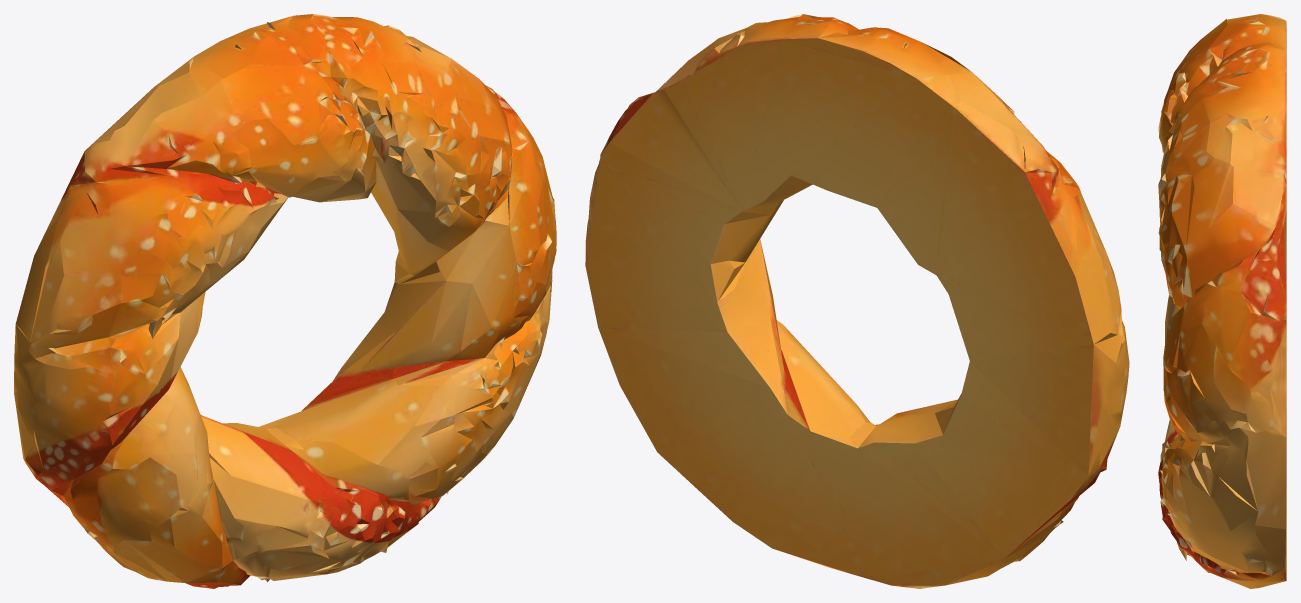
The model's file is simit.glb.
3 renders of one model, left to right at view 1: azimuth 30°, elevation 25°; view 2: azimuth 150°, elevation 25°; view 3: azimuth 270°, elevation 25°, orthographic. The views are drawn at different scales.
Bounding box in the file's own units: 1.9 × 1.89 × 0.4149.
Materials: 1 (1 with a texture image).
